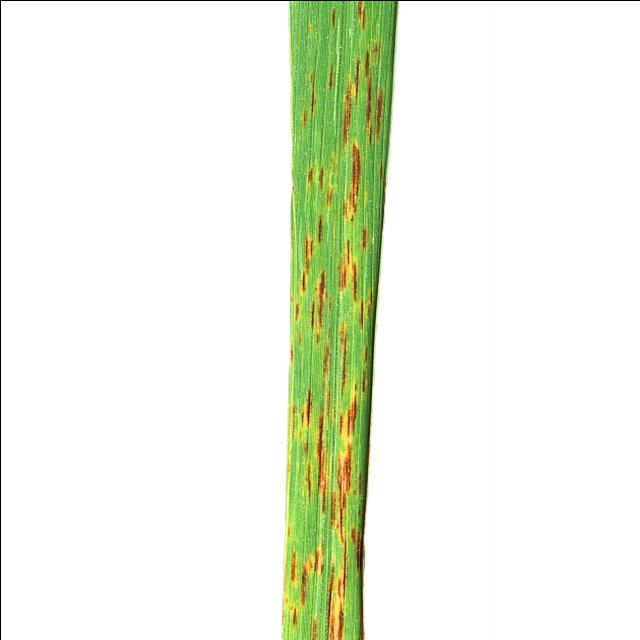Narrow brown: (208, 0, 435, 640)
